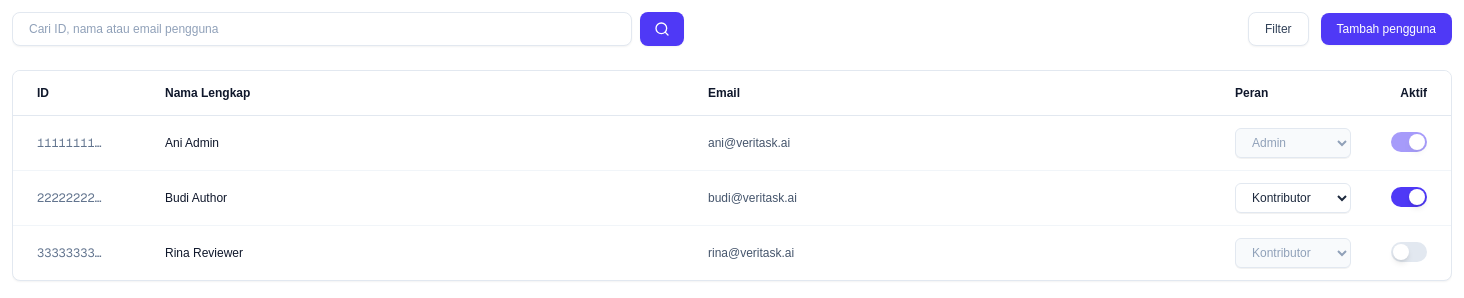
Test: AdminMembersPage, existing paths › searches by email
Expected: the text "Ani Admin" is shown, [157,116,684,170]
In the field with placeholder "Cari ID, nama atau email pengguna": (322, 29) [12,12,632,46], type "rina@"
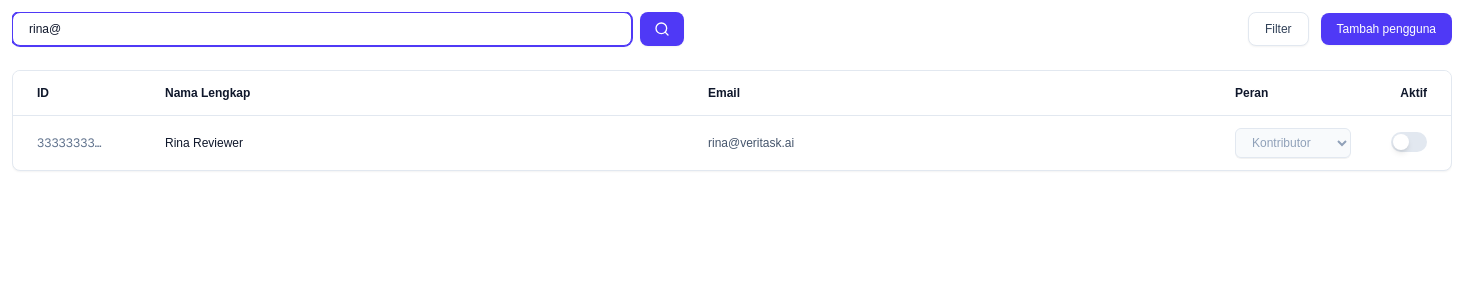
Expected: the text "Rina Reviewer" is shown, [157,116,684,170]
Expected: the text "Ani Admin" is gone
